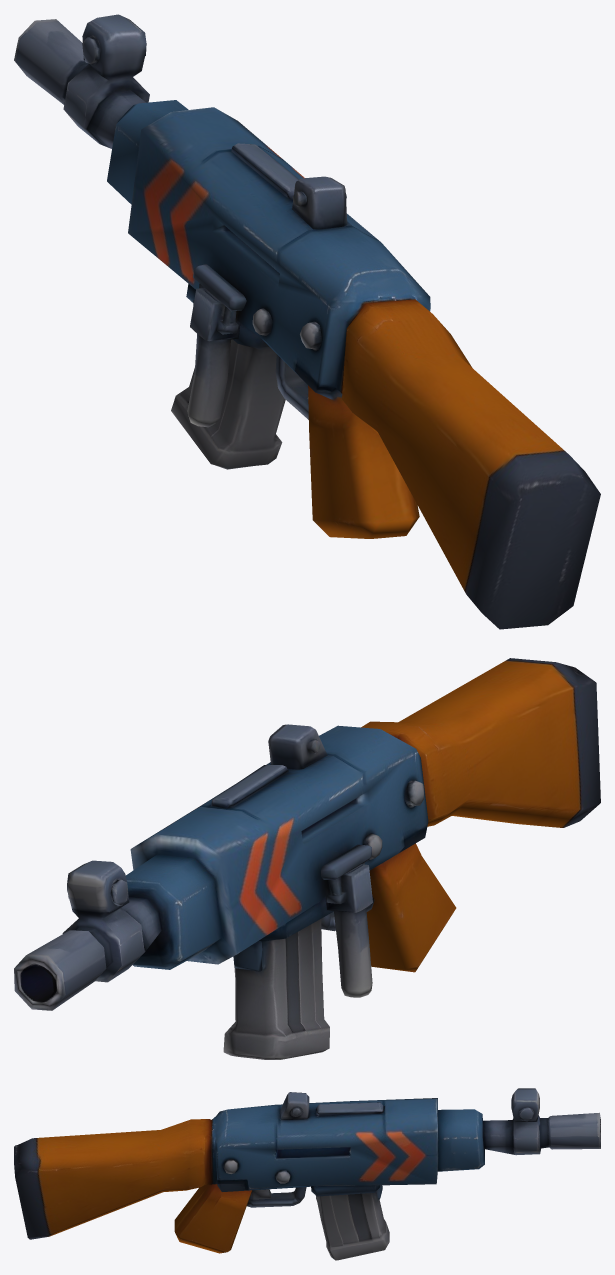
3 renders of one model, top to bottom at view 1: azimuth 30°, elevation 25°; view 2: azimuth 150°, elevation 25°; view 3: azimuth 270°, elevation 25°, orthographic. The views are drawn at different scales.
Parts seen in each view (by area): view 1: tripo_node_687a89a3-9cb3-49fb-9702-7e36371e040c; view 2: tripo_node_687a89a3-9cb3-49fb-9702-7e36371e040c; view 3: tripo_node_687a89a3-9cb3-49fb-9702-7e36371e040c.
Part boxes in pixels (x1=…): tripo_node_687a89a3-9cb3-49fb-9702-7e36371e040c: x1=14, y1=14, x2=600, y2=629; tripo_node_687a89a3-9cb3-49fb-9702-7e36371e040c: x1=14, y1=658, x2=600, y2=1059; tripo_node_687a89a3-9cb3-49fb-9702-7e36371e040c: x1=14, y1=1088, x2=600, y2=1260.
Bounding box in the file's own units: 0.166 × 0.3223 × 0.998.
Materials: 1 (1 with a texture image).
